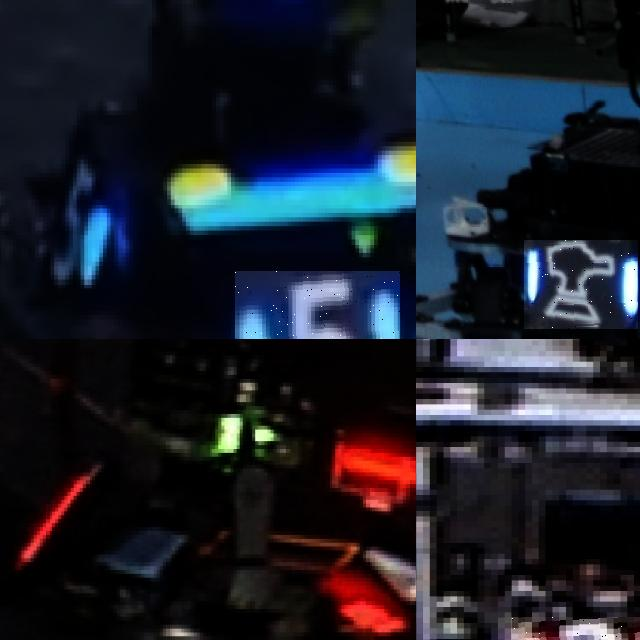B5: (234, 271, 400, 339)
Bs: (524, 240, 638, 329)
R2: (511, 617, 640, 640)
